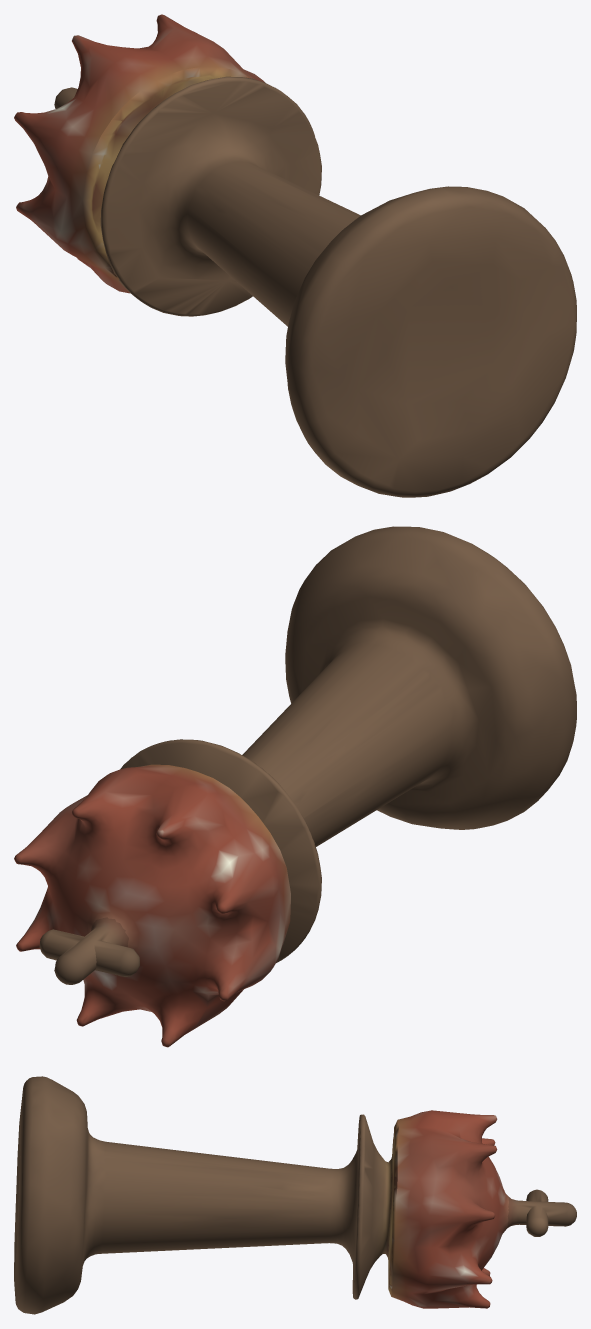
Rendered from king-dark-fallen.glb.
3 renders of one model, top to bottom at view 1: azimuth 30°, elevation 25°; view 2: azimuth 150°, elevation 25°; view 3: azimuth 270°, elevation 25°, orthographic. The views are drawn at different scales.
Parts seen in each view (by area): view 1: body; view 2: body; view 3: body.
Part boxes in pixels (x1,y1,x2,y2): body: (14,14,576,497); body: (14,526,576,1047); body: (14,1076,576,1314).
Size of the model in its own units: 2.39 by 2.39 by 5.66.
